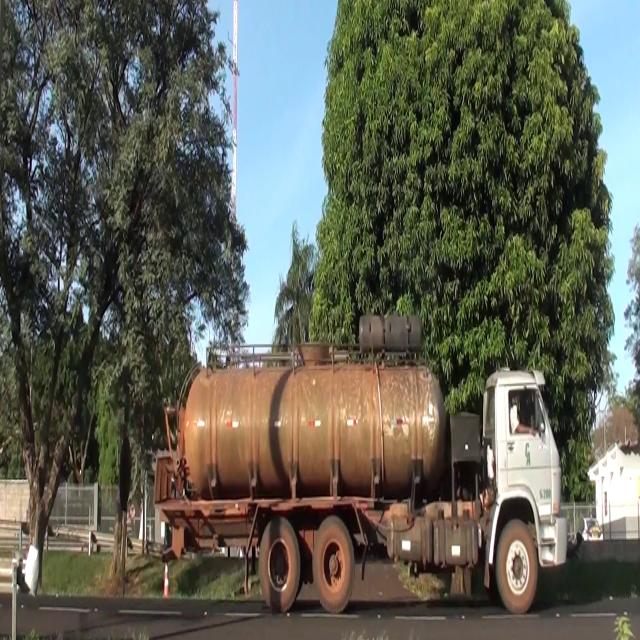-axle: (496, 517, 541, 613), (313, 517, 356, 613), (260, 520, 300, 606)
